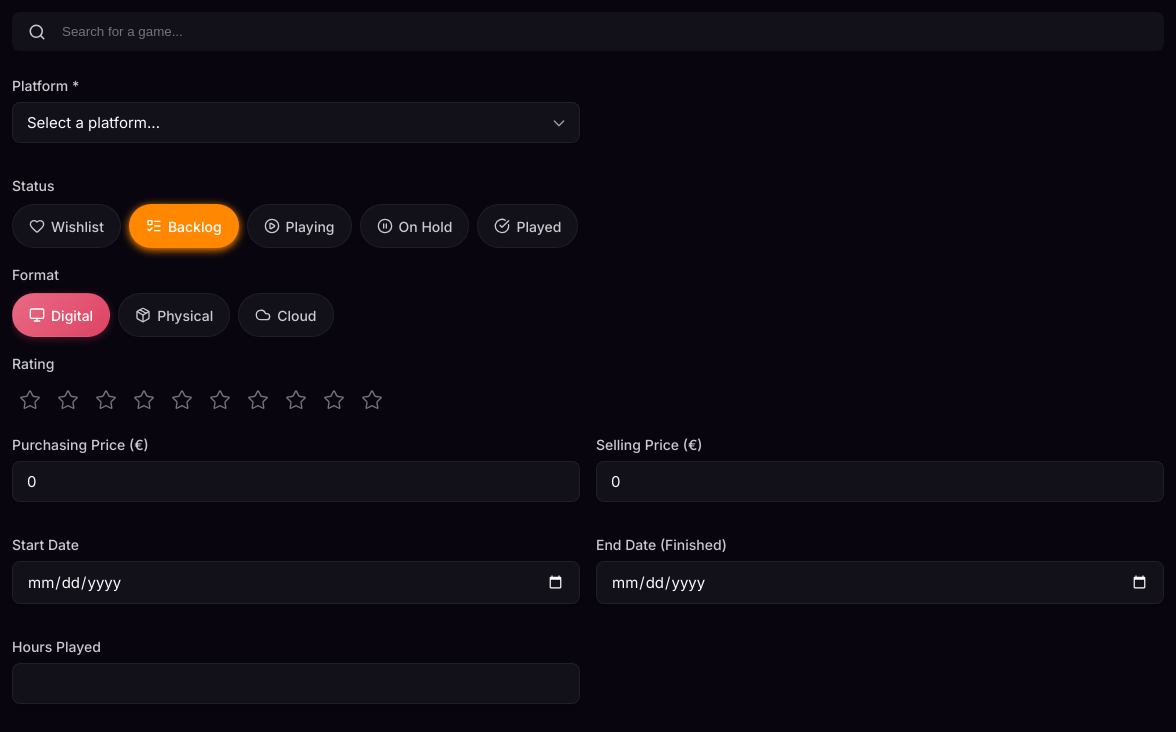
Test: GameForm Cover Carousel › shows loading state while fetching covers
Type "Test" into the field with placeholder "Search for a game...".
click(588, 32); type("Test")  # box x1=12 y1=12 x2=1164 y2=51
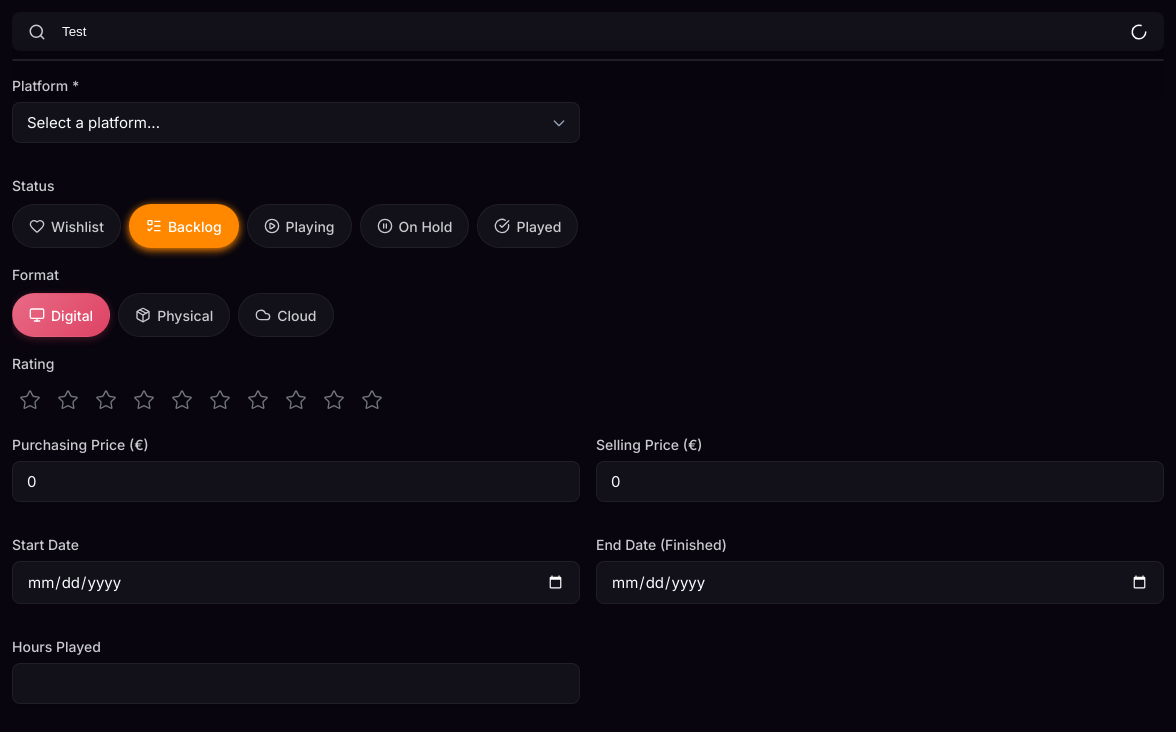
Focus the field with placeholder "Search for a game..." at (588, 32), box x1=12 y1=12 x2=1164 y2=51
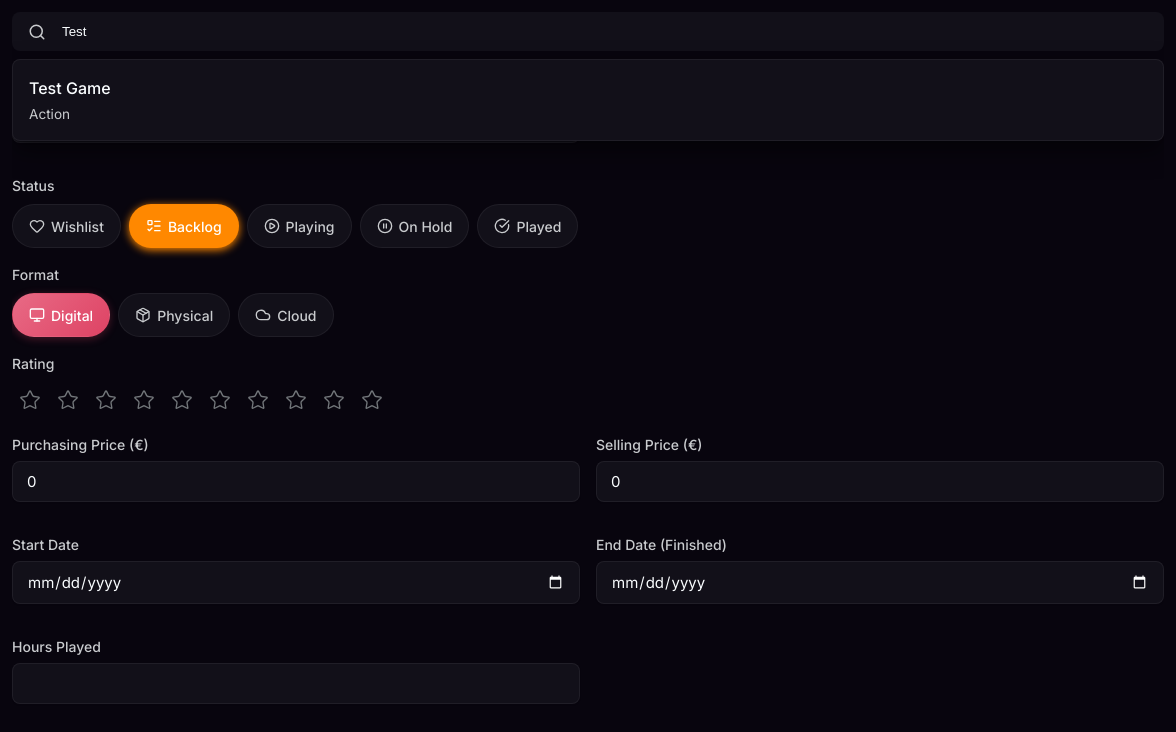
Now the text "Test Game" is shown
Click the text "Test Game".
click(70, 88)  # box x1=29 y1=78 x2=111 y2=98
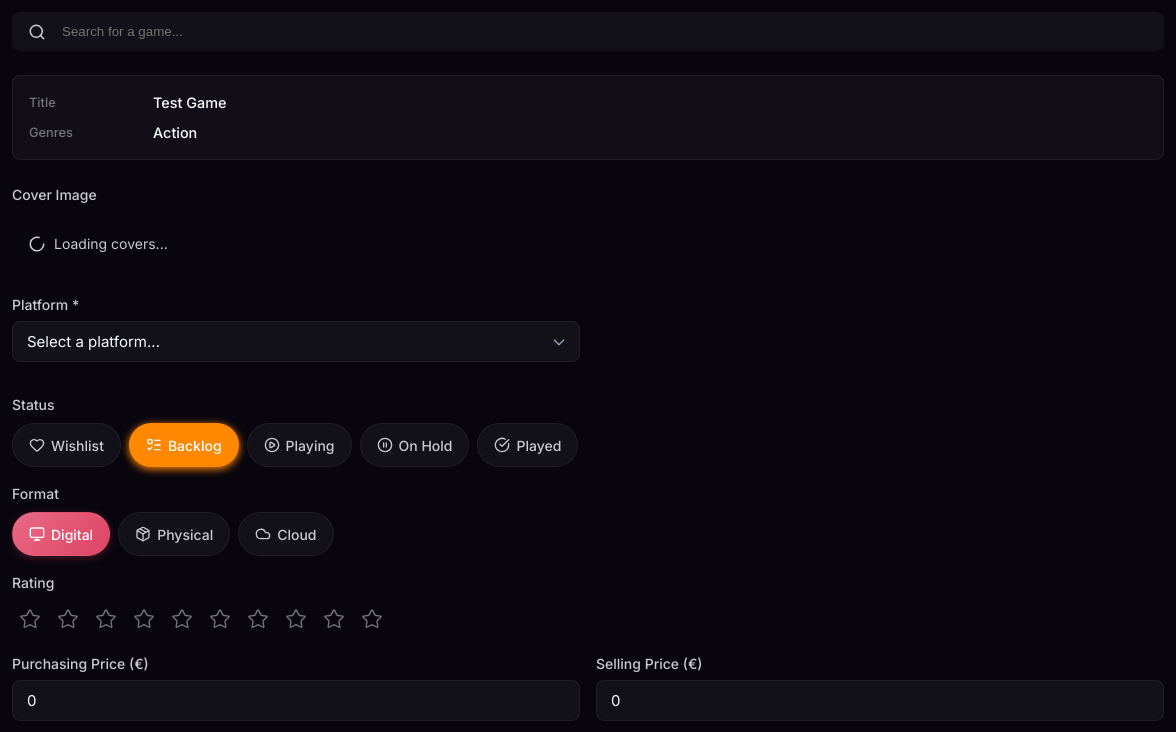
Now the text "Loading covers..." is shown, box x1=54 y1=233 x2=168 y2=254
